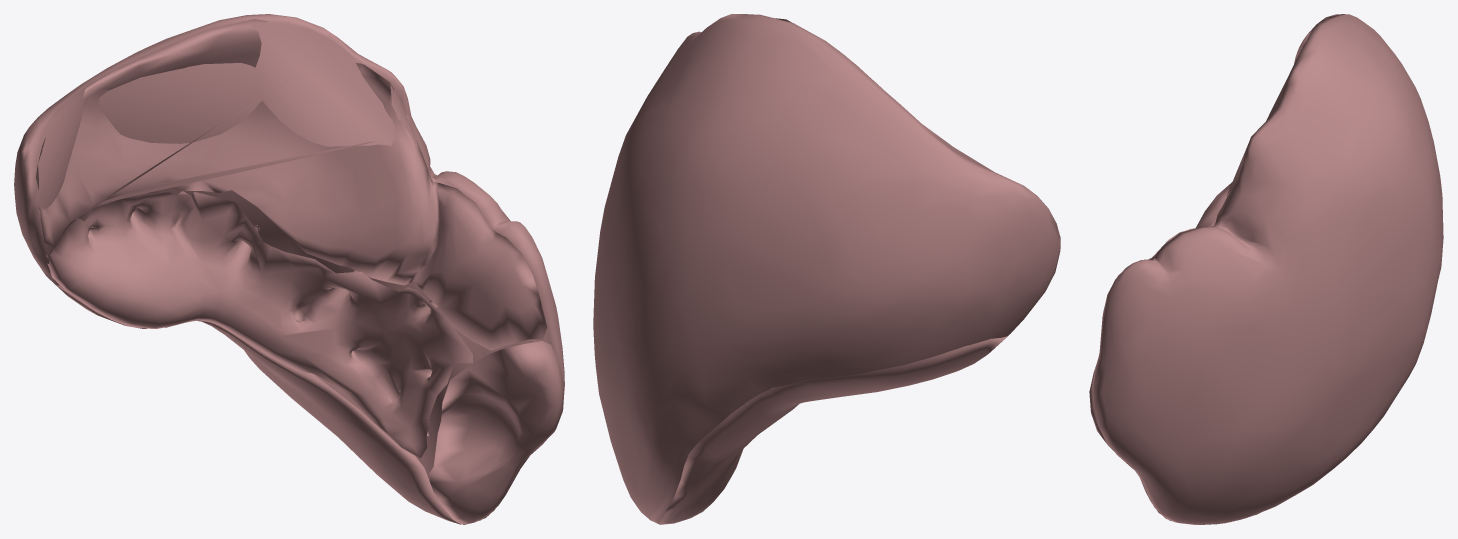
The model's file is 3d-vh-m-spleen_lod_20.glb.
3 renders of one model, left to right at view 1: azimuth 30°, elevation 25°; view 2: azimuth 150°, elevation 25°; view 3: azimuth 270°, elevation 25°, orthographic. The views are drawn at different scales.
Visible parts, largest first — view 1: VH_M_gastric_surface_of_spleen, VH_M_hilum_of_spleen, VH_M_diaphragmatic_surface_of_spleen, VH_M_colic_surface_of_spleen, VH_M_renal_surface_of_spleen; view 2: VH_M_diaphragmatic_surface_of_spleen, VH_M_renal_surface_of_spleen; view 3: VH_M_diaphragmatic_surface_of_spleen, VH_M_gastric_surface_of_spleen.
Boxes of the visible parts, box(x1,y1,x2,y2) form: VH_M_gastric_surface_of_spleen: box(35, 19, 547, 350); VH_M_hilum_of_spleen: box(46, 191, 472, 457); VH_M_diaphragmatic_surface_of_spleen: box(14, 14, 564, 524); VH_M_colic_surface_of_spleen: box(429, 341, 564, 524); VH_M_renal_surface_of_spleen: box(48, 278, 460, 524); VH_M_diaphragmatic_surface_of_spleen: box(593, 14, 1060, 524); VH_M_renal_surface_of_spleen: box(658, 336, 1007, 524); VH_M_diaphragmatic_surface_of_spleen: box(1093, 14, 1443, 524); VH_M_gastric_surface_of_spleen: box(1103, 18, 1327, 313).
Size of the model in its own units: 0.1105 by 0.1187 by 0.0887.
